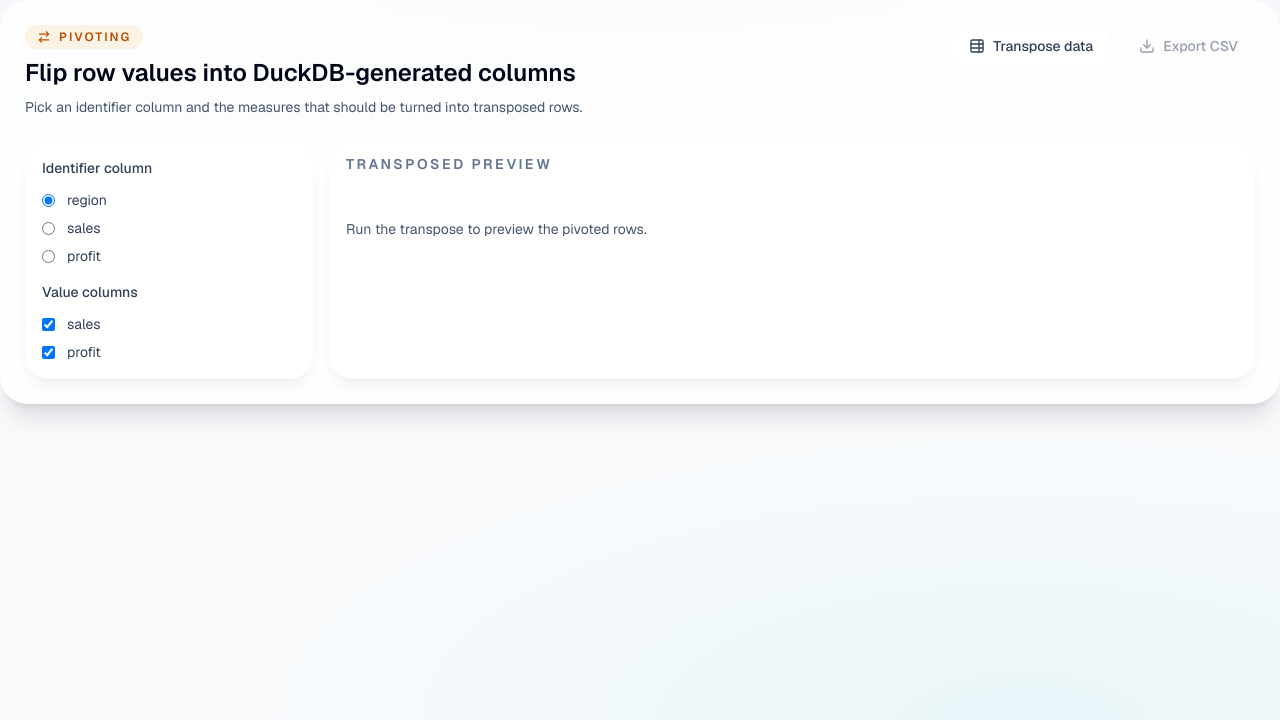
DataTransposeTool › transposes data and displays the result table
Click the button "Transpose data" at [1031, 46], box [952,25,1110,67]
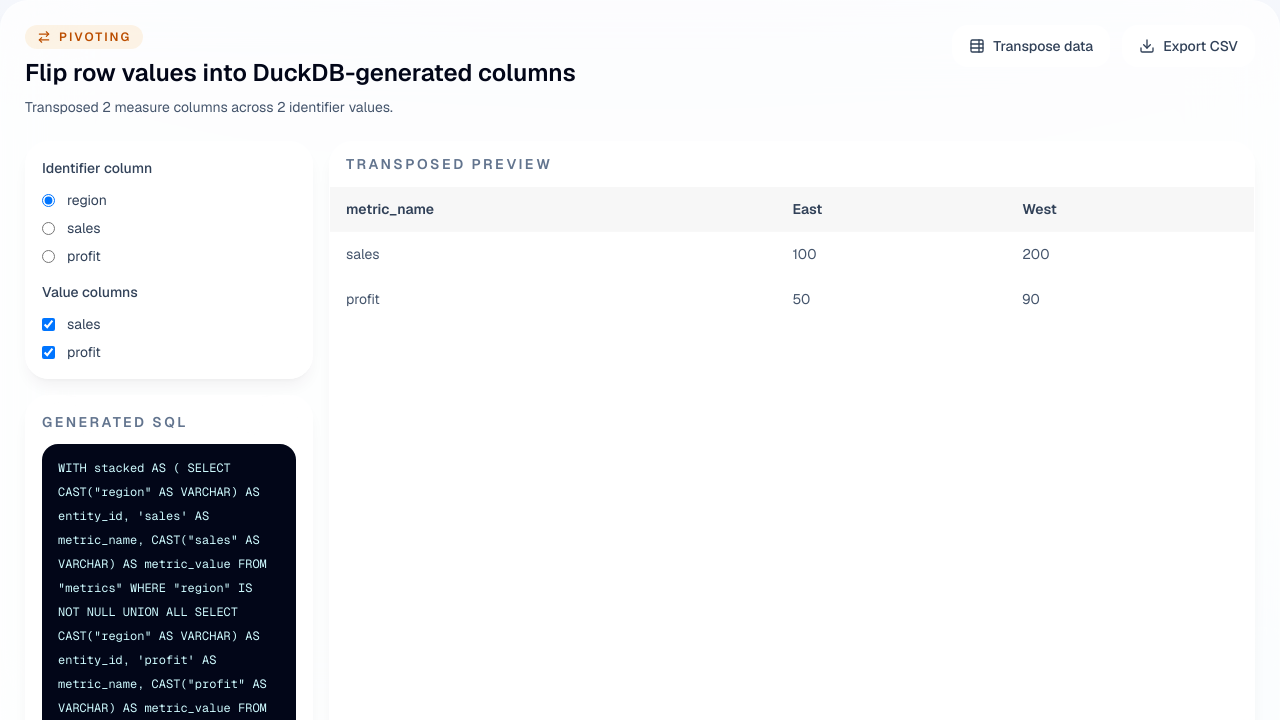
Expected: the heading "Transposed preview" is shown, [346,155,552,173]
Now the text "Transposed 2 measure columns across 2 identifier values." is shown, box [25,98,393,116]
